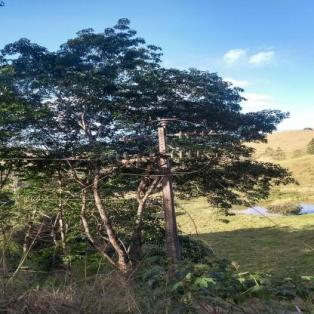Poste: (158, 125, 179, 264)
